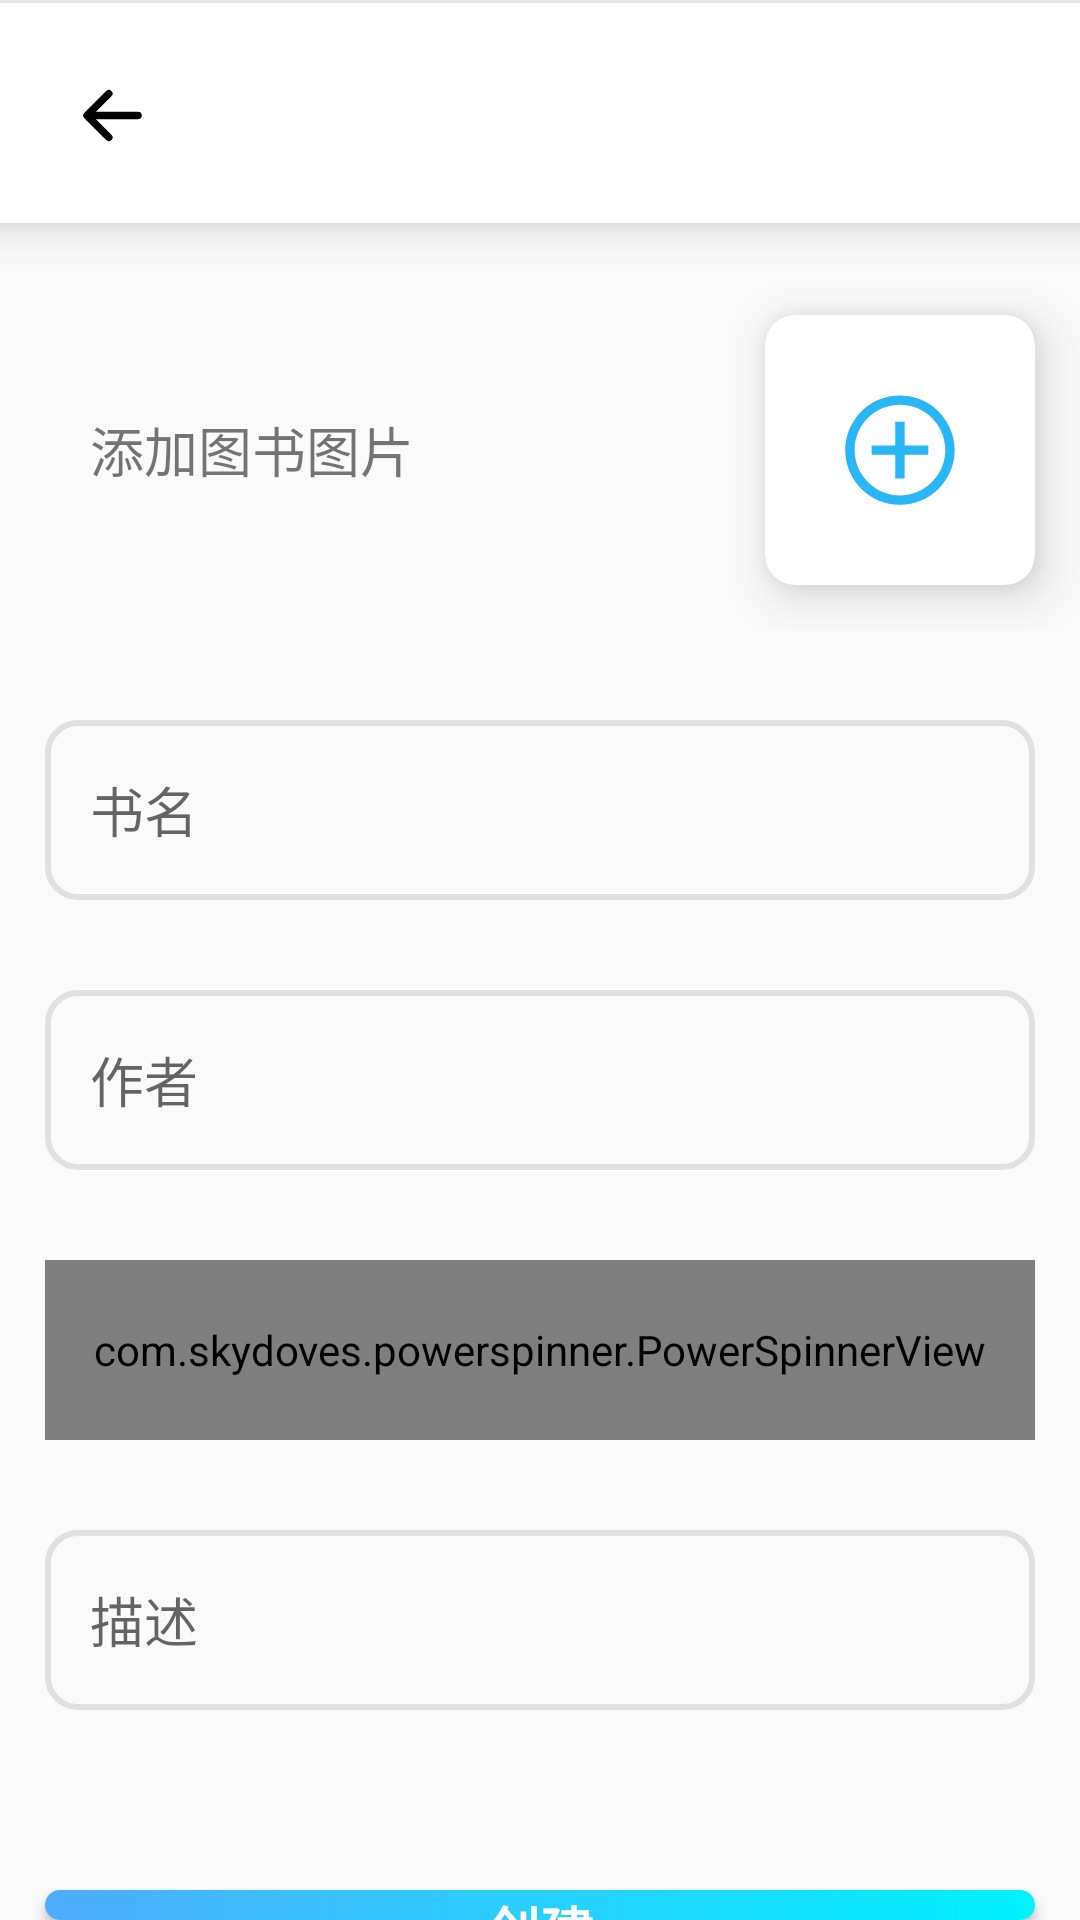

Named icons in this screenshot (1080 × 1920) and their bounding boxes, Rect(x1, y1, x2, y2):
add: Rect(765, 315, 1035, 585)
